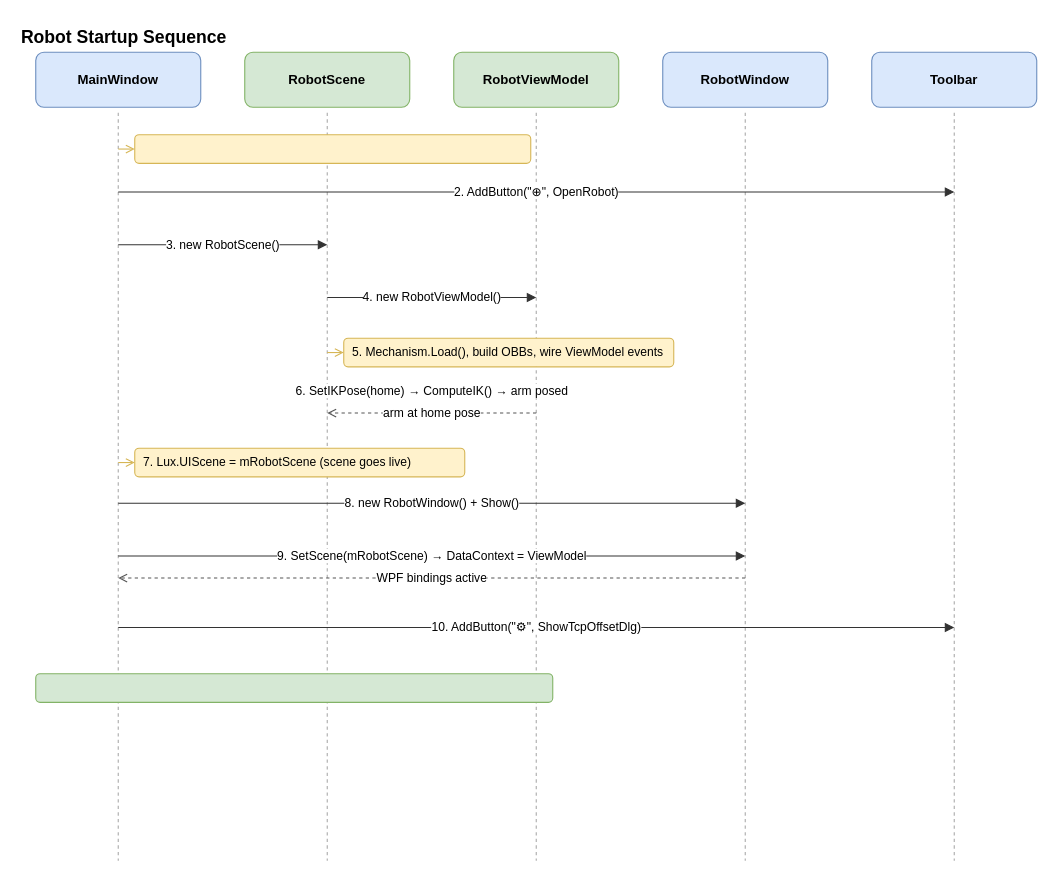
The diagram is 1056 pixels wide and 881 high, and some of its shapes have lost their labels. The shapes that lost their labels are listed below. From the top down, each one's centre as x and y in pixels, then its label:
the point at 332,148: 1. WPFHost.Init(this, OnLuxReady) → GL ready → fires OnLuxReady()
the point at 294,687: Arm is rendered. Sidebar is visible. All sliders are live.
